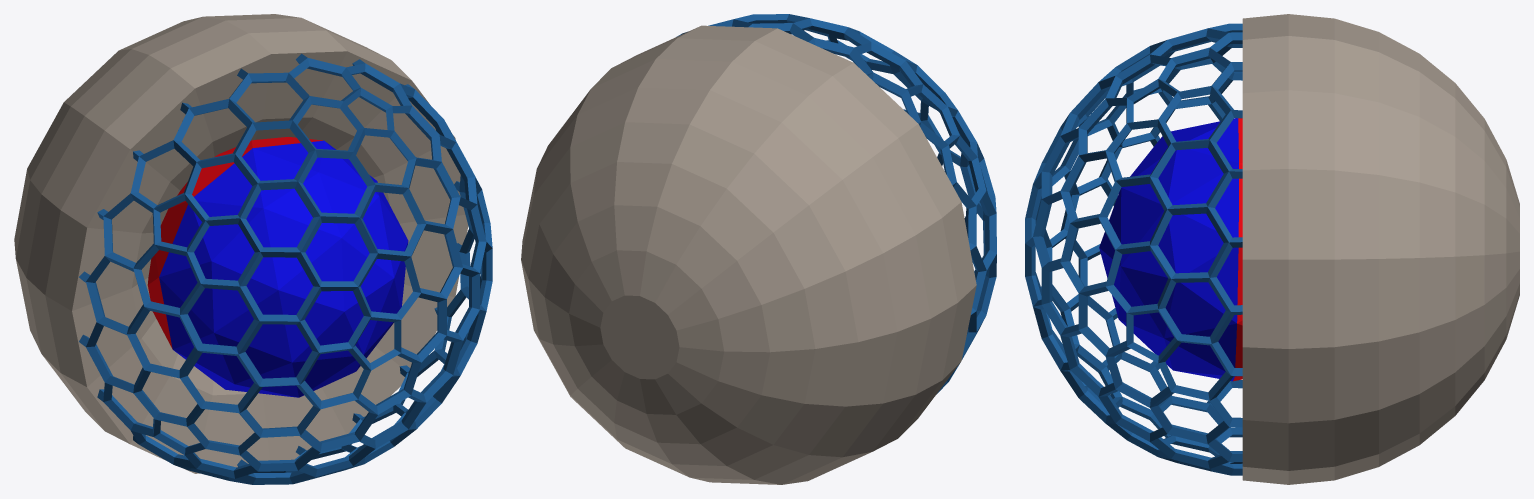
File: character.fbx
3 renders of one model, left to right at view 1: azimuth 30°, elevation 25°; view 2: azimuth 150°, elevation 25°; view 3: azimuth 270°, elevation 25°, orthographic.
Parts seen in each view (by area): view 1: Cage, Magnet; view 2: Cage; view 3: Cage, Magnet.
Part boxes in pixels (left/top/right/bottom): Cage: left=14, top=14, right=492, bottom=484; Magnet: left=147, top=137, right=408, bottom=397; Cage: left=521, top=14, right=996, bottom=484; Cage: left=1025, top=14, right=1519, bottom=484; Magnet: left=1099, top=118, right=1242, bottom=381.
Size of the model in its own units: 200 by 200 by 210.
